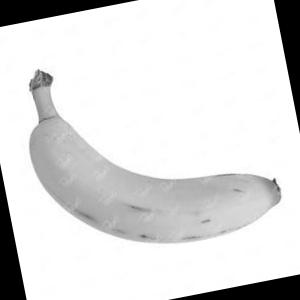fruit: (1, 27, 295, 289)
